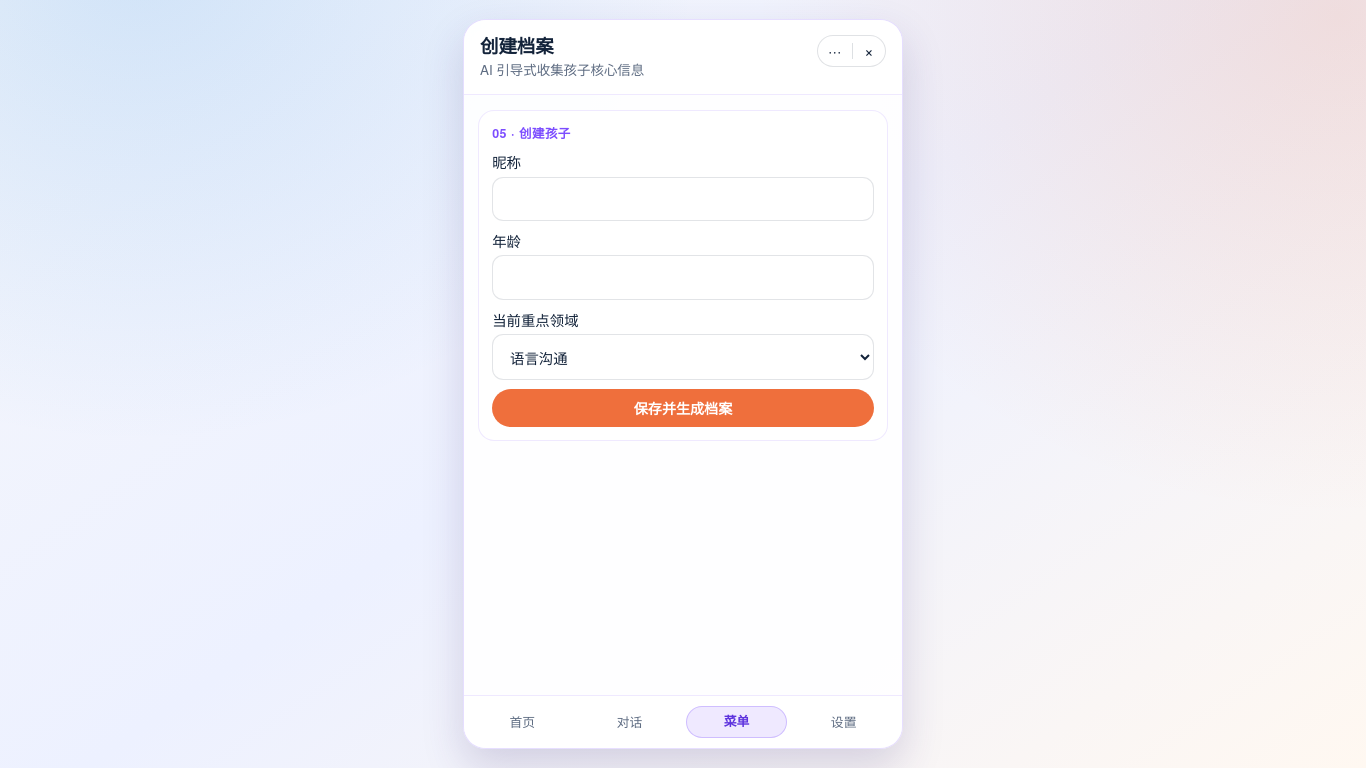
Test case: CreateChildPage › shows error state when createChildProfile fails
The width and height of the screenshot is (1366, 768).
Type "乐乐" into the field labelled "昵称" at (683, 199), box [492,177,874,221]
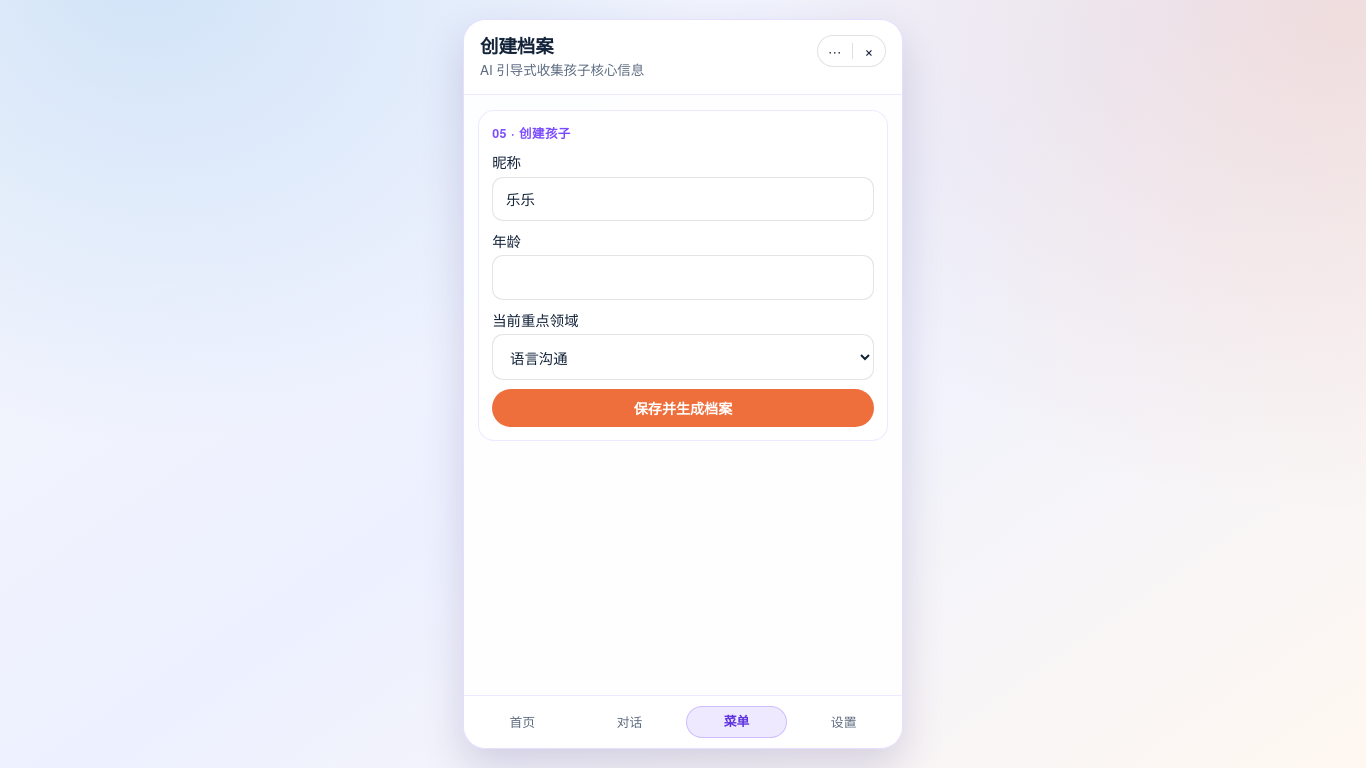
Type "5" into the field labelled "年龄" at (683, 278), box [492,255,874,300]
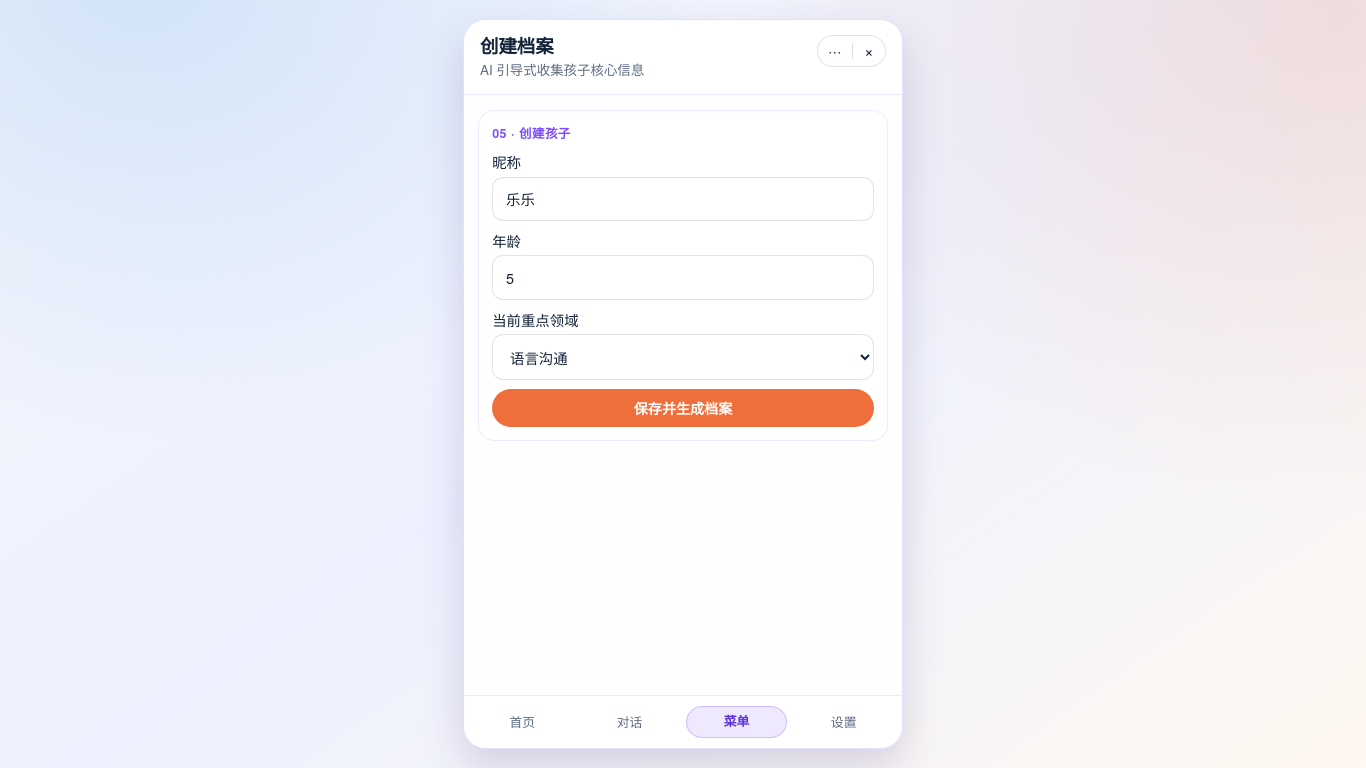
Click the button "保存并生成档案" at (683, 408), box [492,389,874,427]
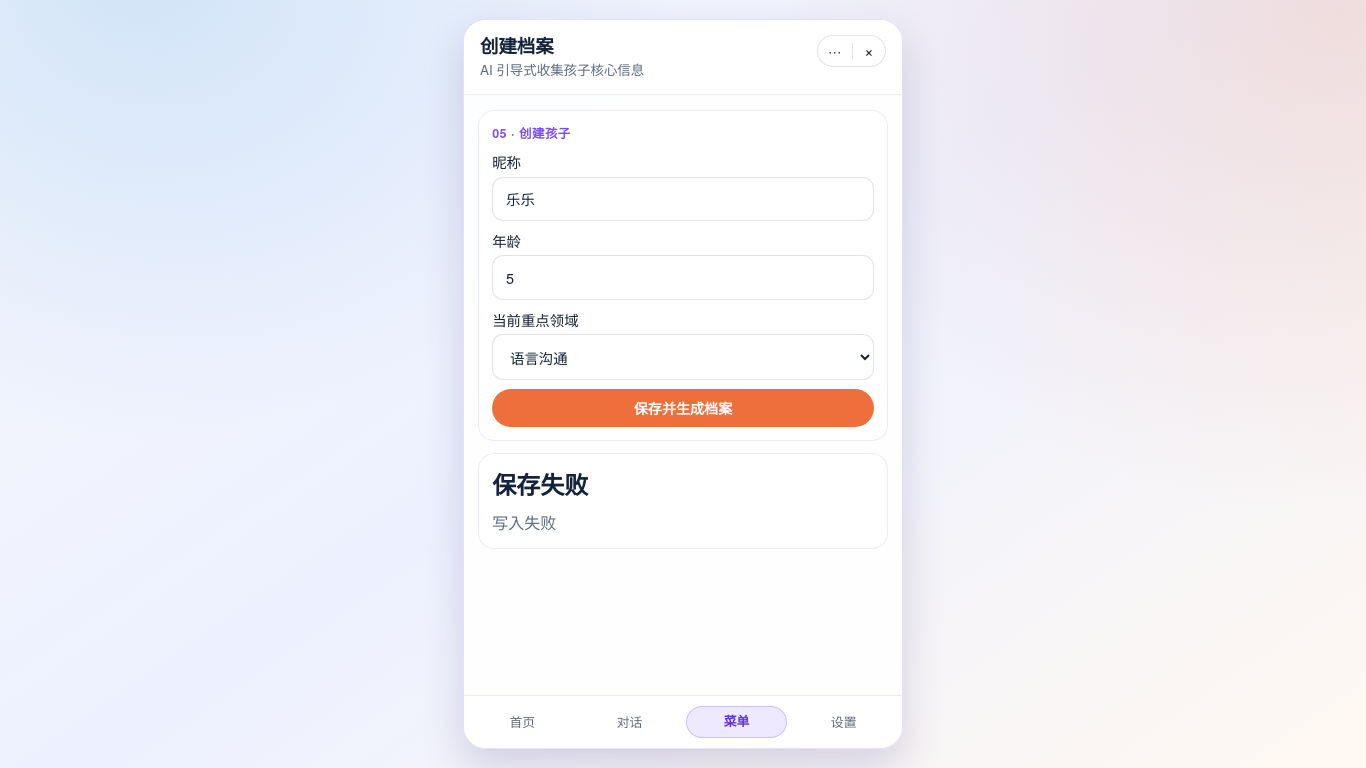
expect the text "写入失败" is shown: met, box [492,511,556,534]
